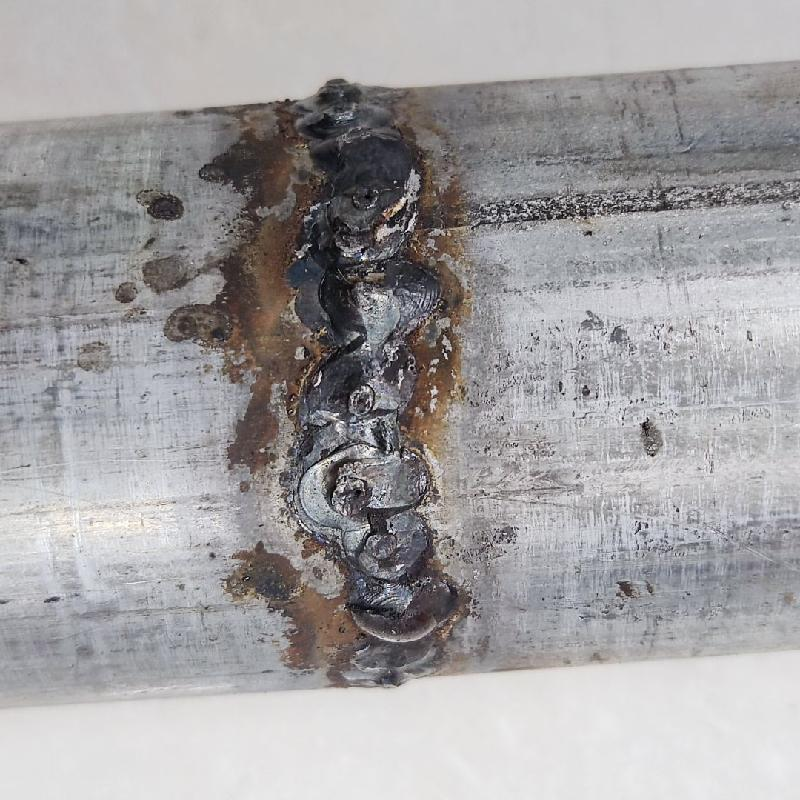Surface_pores: (334, 473, 374, 506), (353, 185, 383, 208)
Weld: (343, 579, 463, 644)
wrong_size: (268, 71, 473, 691)
